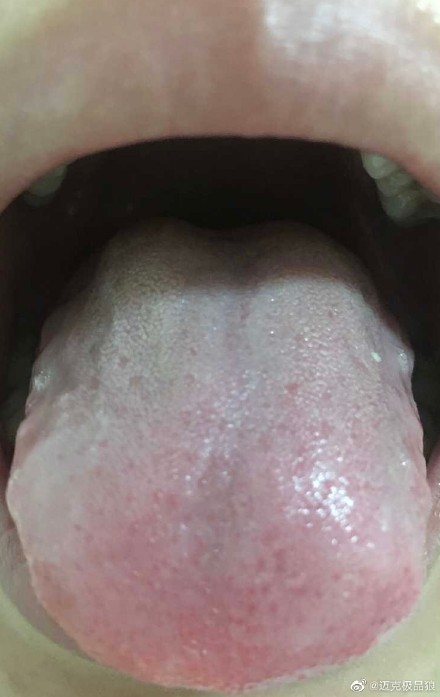baitaishe: (6, 206, 433, 692)
gandanao: (7, 228, 134, 546), (313, 230, 434, 550)
